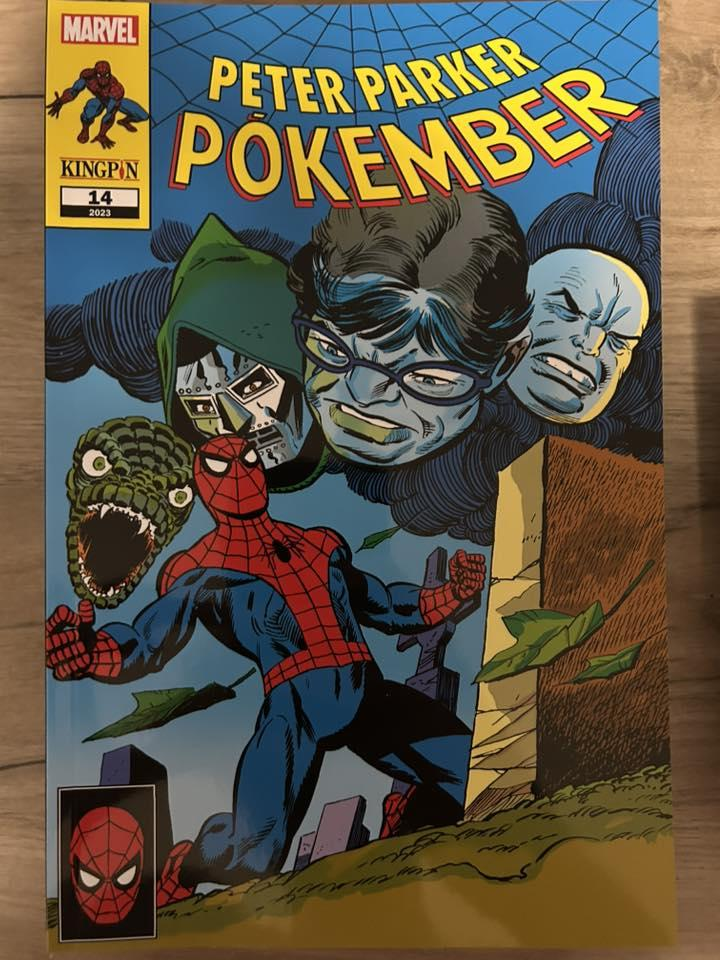comic: (43, 0, 674, 952)
